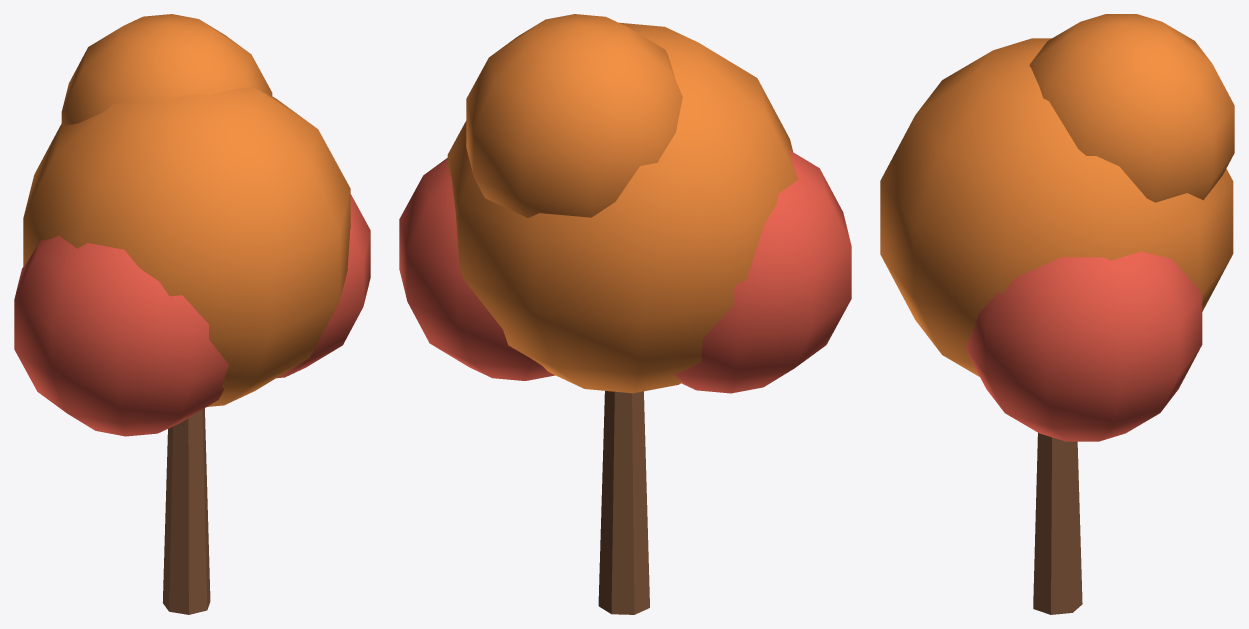
File: tree_d.glb
3 renders of one model, left to right at view 1: azimuth 30°, elevation 25°; view 2: azimuth 150°, elevation 25°; view 3: azimuth 270°, elevation 25°, orthographic. The views are drawn at different scales.
Visible parts, largest first — view 1: tree_d; view 2: tree_d; view 3: tree_d.
Part boxes in pixels (box(x1,y1,x2,y2)): tree_d: box(14, 14, 370, 614); tree_d: box(399, 14, 851, 614); tree_d: box(880, 14, 1234, 614).
Bounding box in the file's own units: 3.31 × 5 × 2.74.
